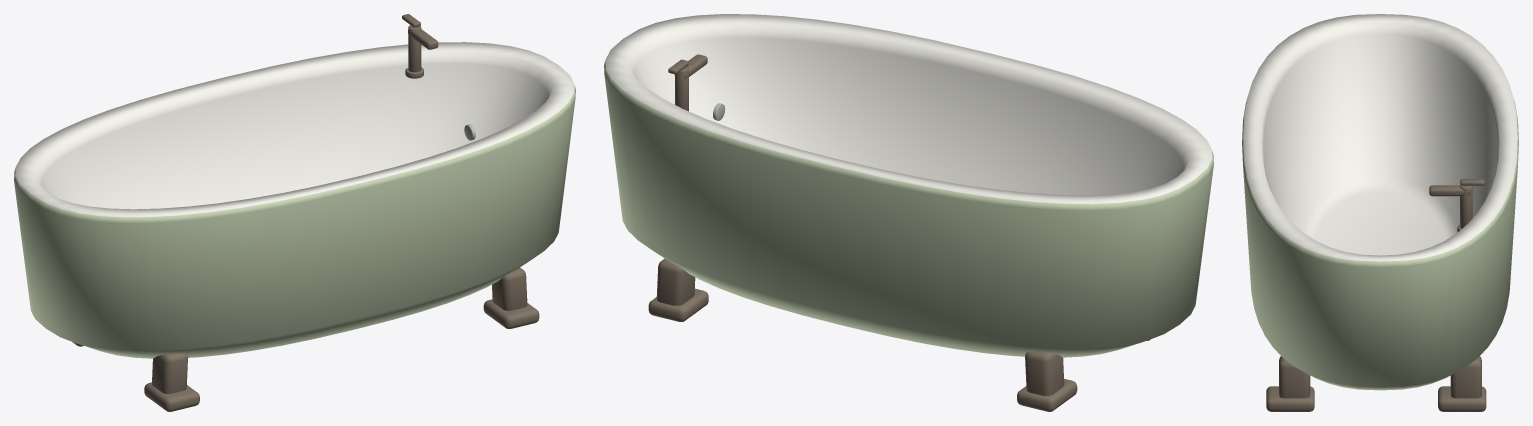
File: clawfoot-bathtub.glb
3 renders of one model, left to right at view 1: azimuth 30°, elevation 25°; view 2: azimuth 150°, elevation 25°; view 3: azimuth 270°, elevation 25°, orthographic. The views are drawn at different scales.
Parts seen in each view (by area): view 1: clawfoot-bathtub; view 2: clawfoot-bathtub; view 3: clawfoot-bathtub.
Part boxes in pixels (x1,y1,x2,y2): clawfoot-bathtub: (14, 14, 575, 411); clawfoot-bathtub: (604, 14, 1213, 411); clawfoot-bathtub: (1242, 14, 1518, 411).
Size of the model in its own units: 1.7 by 0.71 by 0.8.
